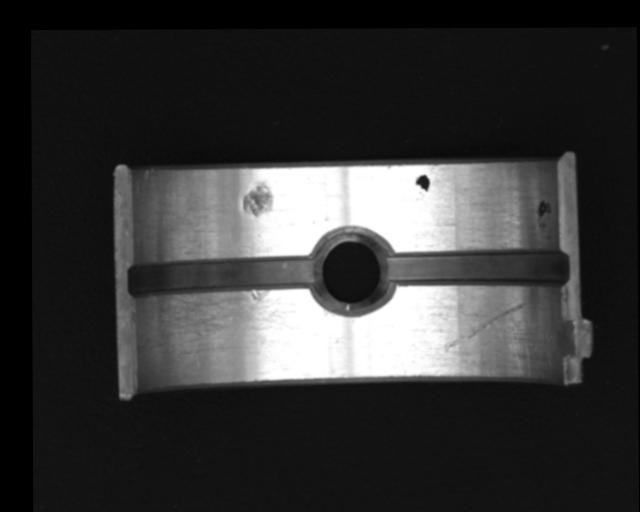blot: (536, 199, 551, 231), (414, 173, 431, 195)
bruise: (241, 182, 273, 217)
gap: (125, 254, 319, 299), (384, 249, 567, 287)
hole: (314, 227, 394, 317)
nick: (442, 301, 528, 354)
scratch: (143, 287, 318, 372)
